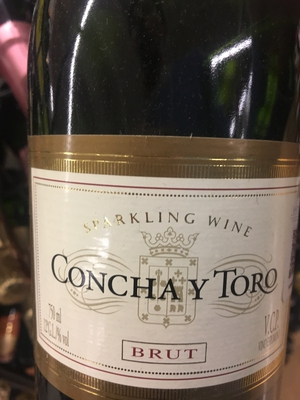brut: (23, 22, 298, 400)
